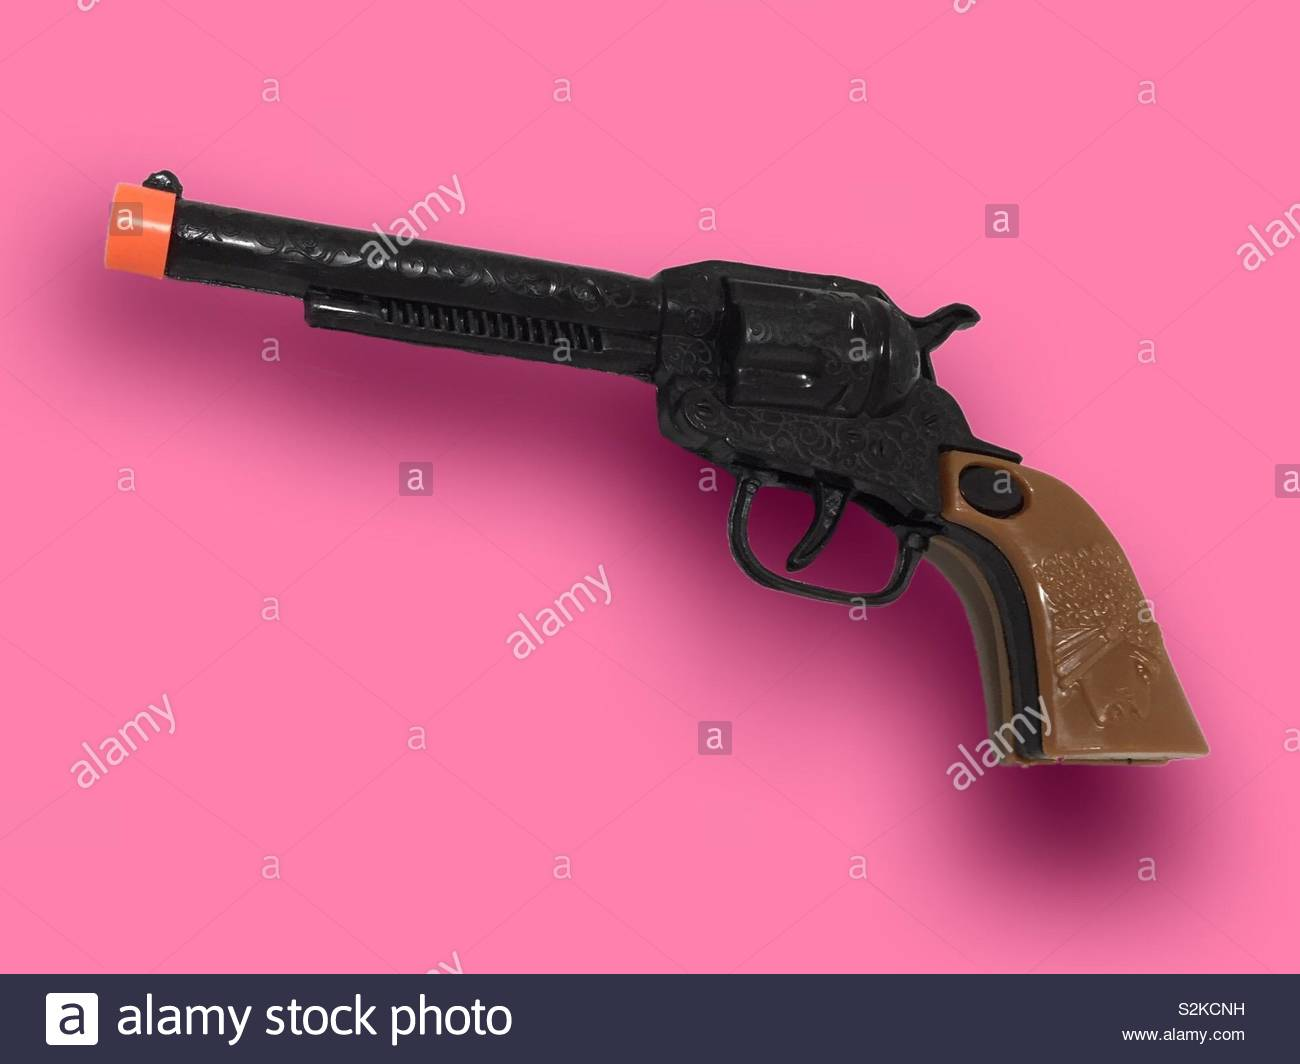Arma Falsa: (101, 161, 1218, 775)
